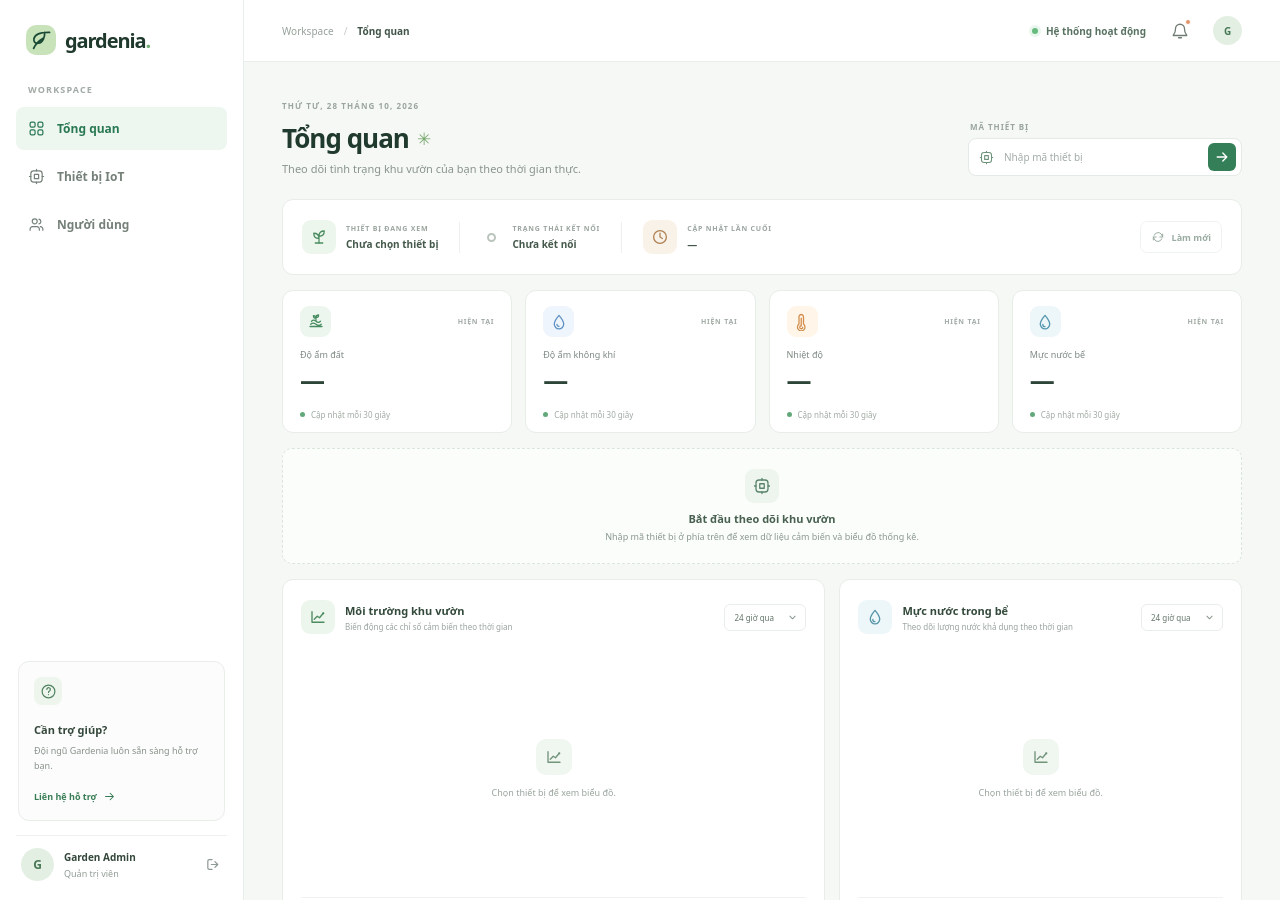
Test: opens the user-management page from the administrator navigation
The width and height of the screenshot is (1280, 900).
Click the button "Người dùng". click: point(122, 224)
box: [16,203,227,246]
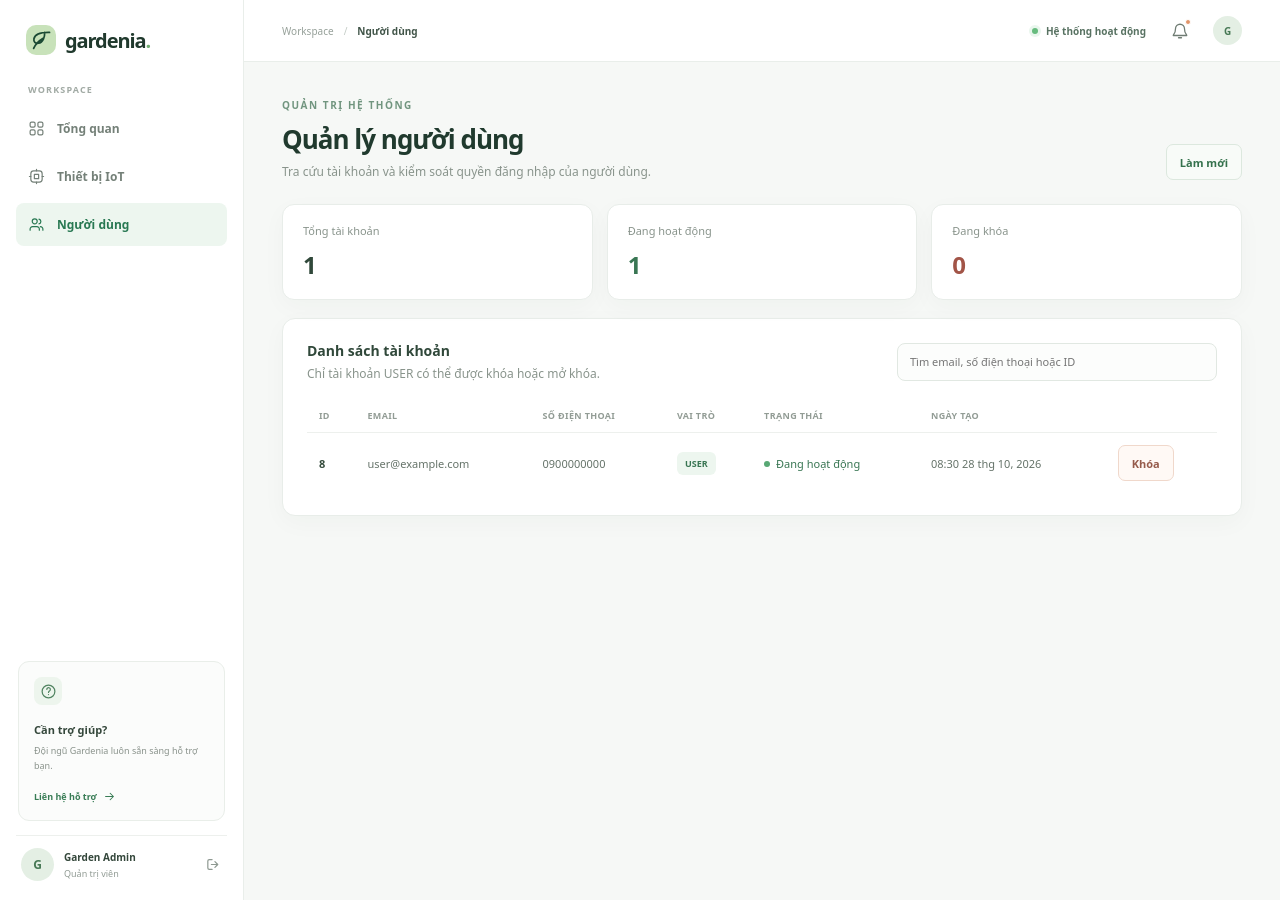
Now the heading "Quản lý người dùng" is shown, box [282,121,524,157]
Now the text "user@example.com" is shown, box [356,432,530,493]
